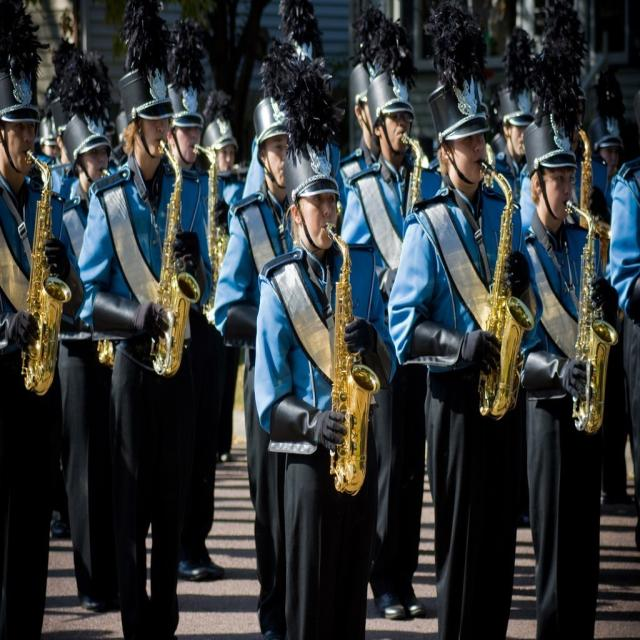saxophone: (324, 220, 384, 498), (476, 158, 535, 421), (22, 146, 74, 405), (564, 199, 620, 437), (150, 138, 203, 377), (189, 143, 230, 329), (574, 123, 611, 278), (401, 134, 424, 212), (95, 337, 116, 365)
